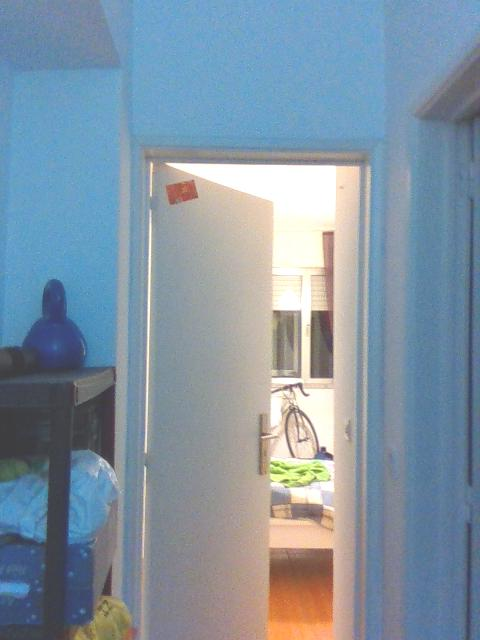semi_door: (119, 129, 386, 639)
